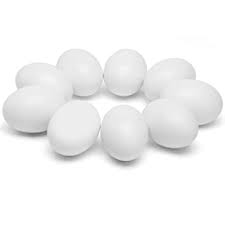eggs: (93, 41, 154, 99), (139, 96, 190, 149), (104, 100, 151, 157), (163, 84, 225, 127), (58, 44, 108, 97), (15, 54, 74, 98), (51, 99, 98, 154), (8, 82, 59, 130), (146, 55, 198, 98)
